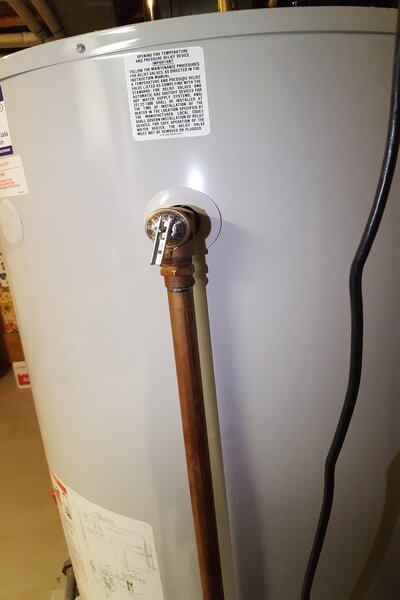valve: (140, 204, 203, 302)
